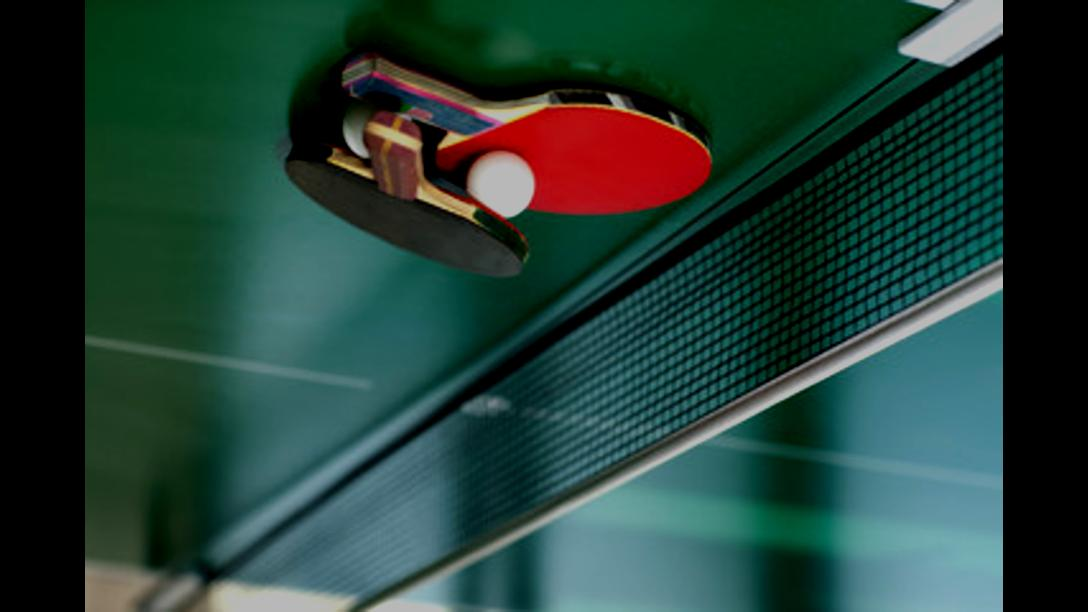Table-Tennis-Ball: (468, 156, 532, 220), (344, 102, 380, 157)
